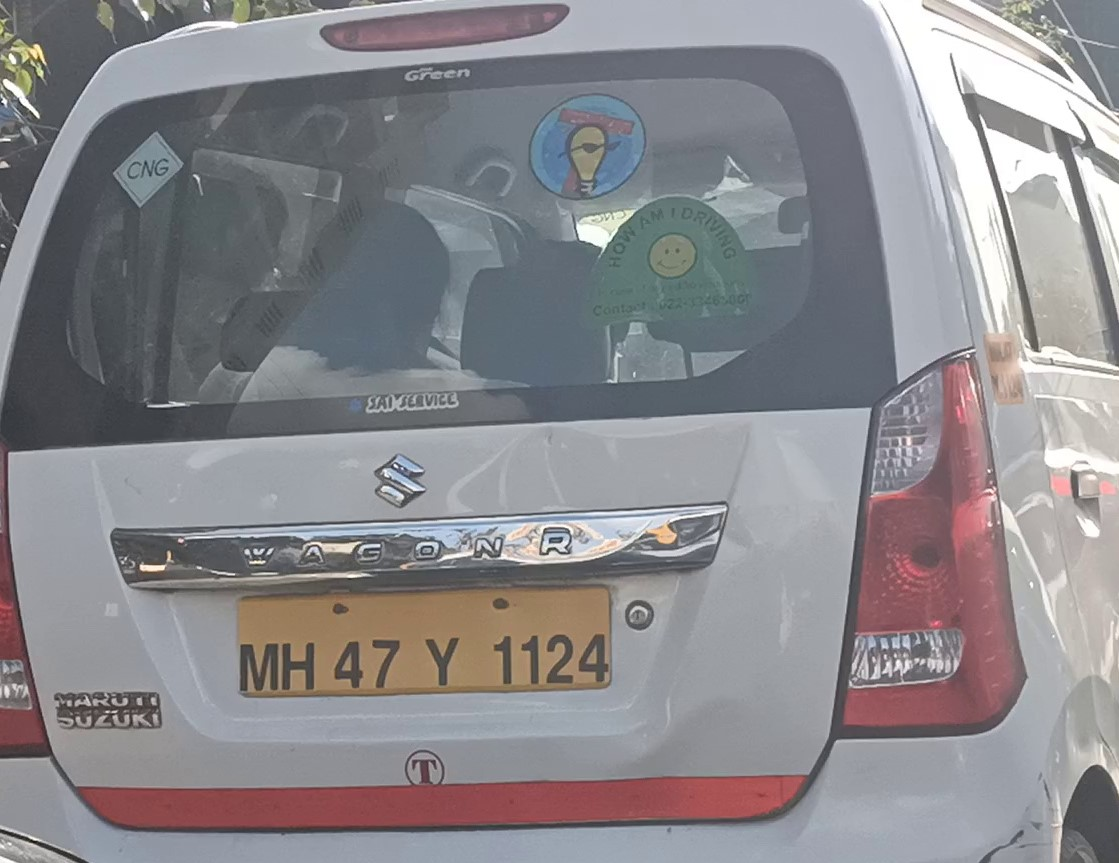MH47Y1124: (239, 583, 613, 689)
